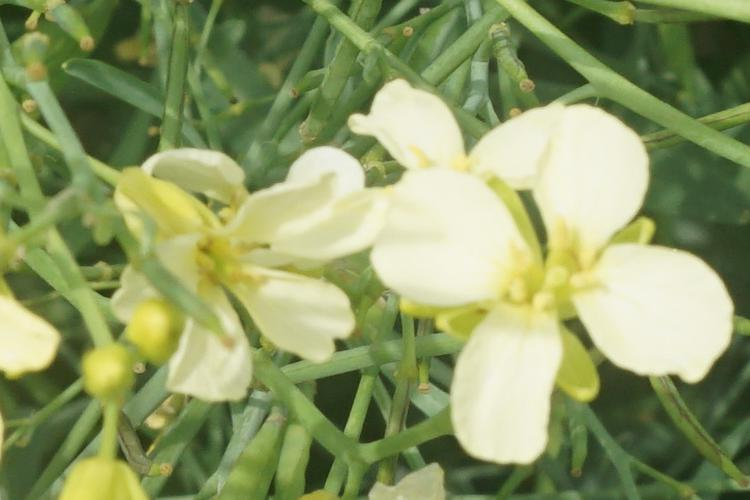pod: (382, 310, 454, 411), (101, 416, 189, 485), (230, 404, 304, 486), (490, 23, 549, 93), (37, 15, 115, 54)
white: (401, 102, 716, 434), (118, 152, 370, 384)
